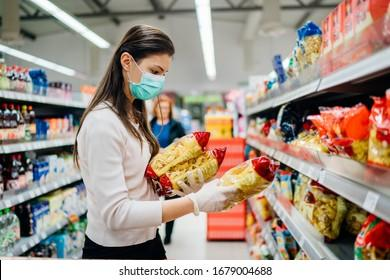gloves: (187, 179, 235, 218), (174, 169, 205, 197)
